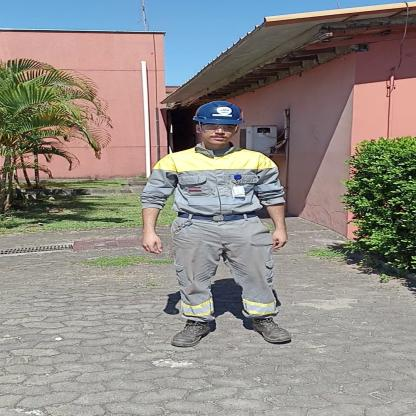Capacete: (192, 98, 246, 122)
